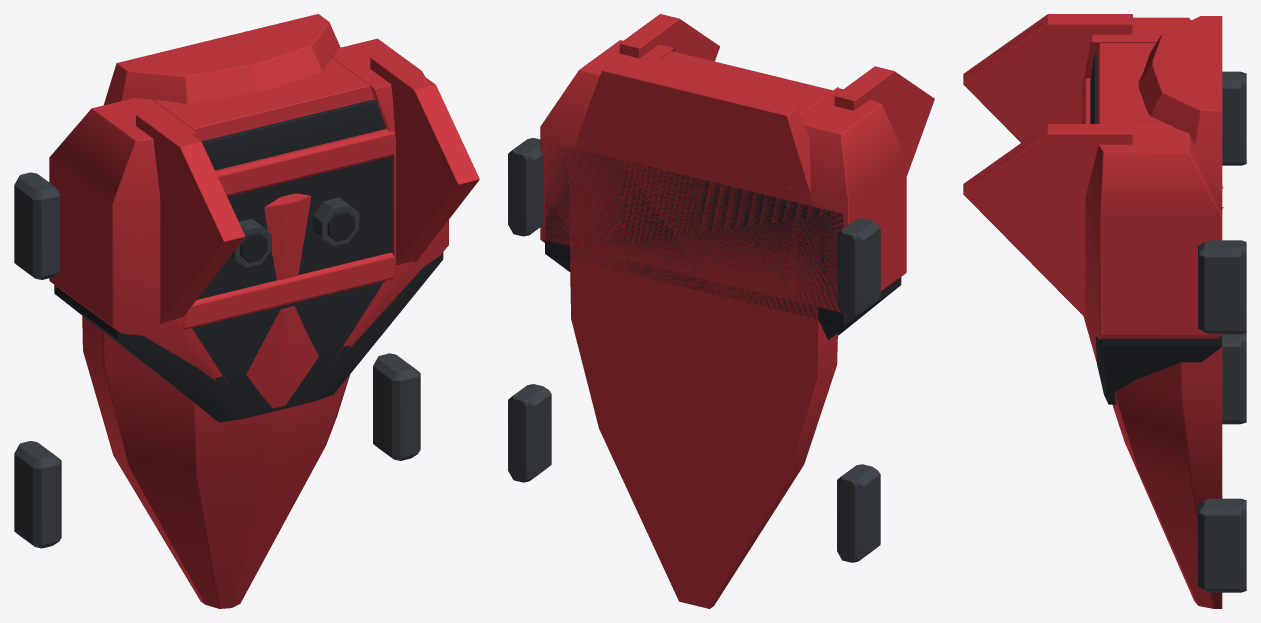
Rendered from ThighBack_Set04_Ripjaw.fbx.
3 views of the same model, side by side, from view 1: azimuth 30°, elevation 25°; view 2: azimuth 150°, elevation 25°; view 3: azimuth 270°, elevation 25° (orthographic). The views are drawn at different scales.
Visible parts, largest first — view 1: ThighBack_Set04_Ripjaw; view 2: ThighBack_Set04_Ripjaw; view 3: ThighBack_Set04_Ripjaw.
Part boxes in pixels (<box>): ThighBack_Set04_Ripjaw: <box>14,14,479,608</box>; ThighBack_Set04_Ripjaw: <box>508,14,934,608</box>; ThighBack_Set04_Ripjaw: <box>963,14,1246,608</box>.
Size of the model in its own units: 0.53 by 0.73 by 0.3486.
